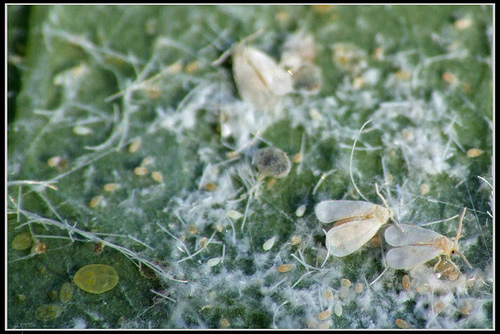whitefly: (212, 32, 294, 109), (383, 207, 470, 272), (314, 196, 403, 258)
